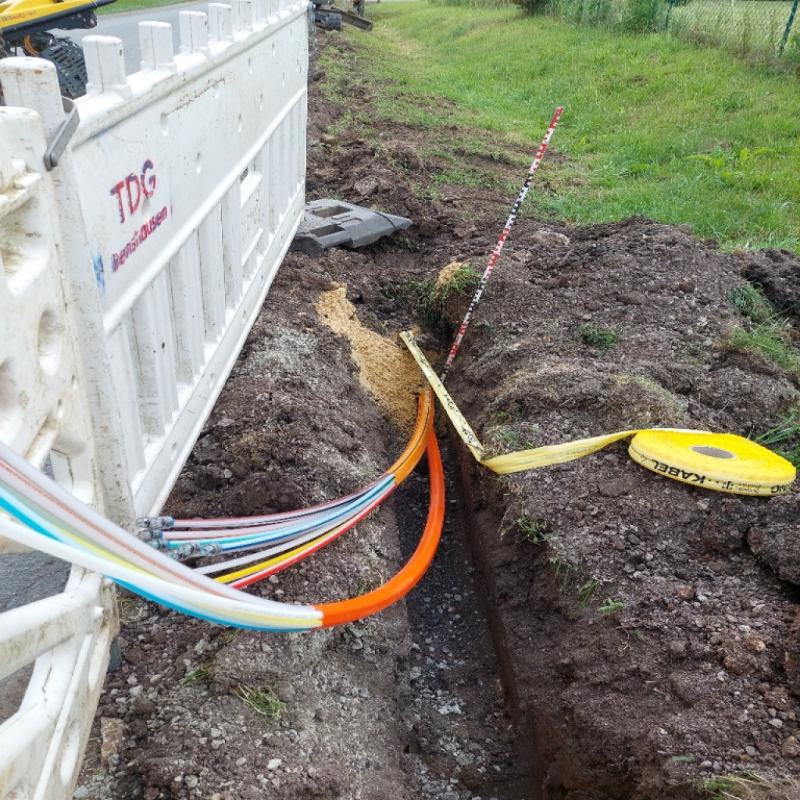Orang-Speednetrohrchen: (252, 429, 445, 627), (322, 388, 435, 535)
